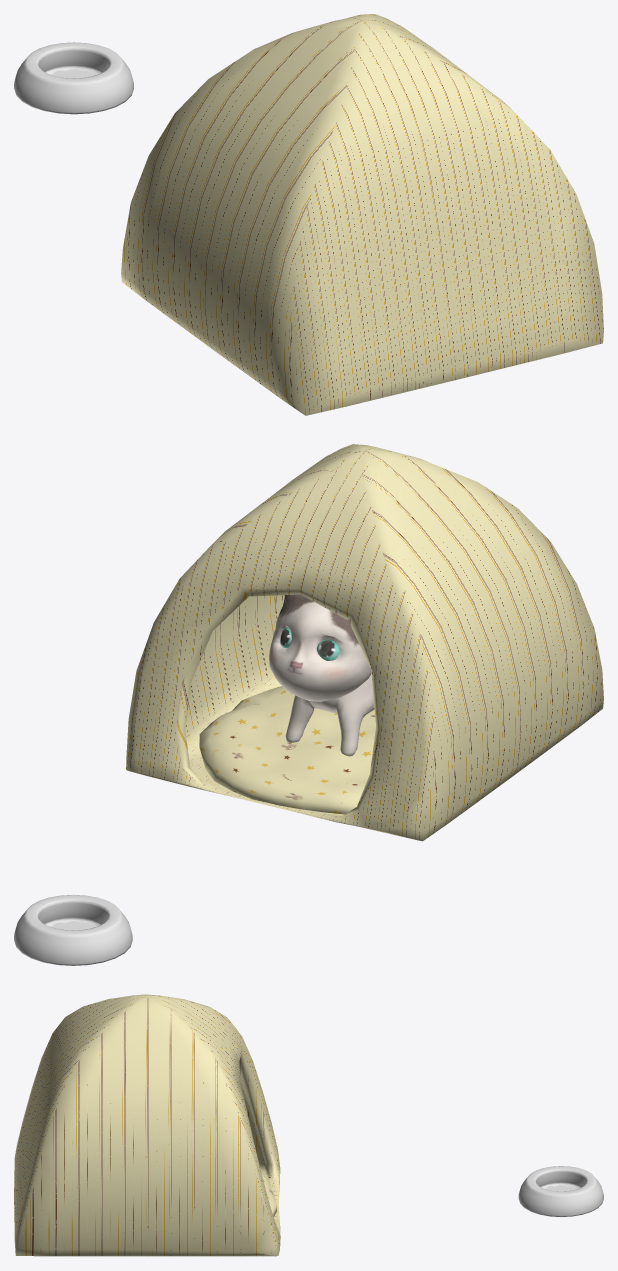
File: all.FBX
3 renders of one model, top to bottom at view 1: azimuth 30°, elevation 25°; view 2: azimuth 150°, elevation 25°; view 3: azimuth 270°, elevation 25°, orthographic. The views are drawn at different scales.
Visible parts, largest first — view 1: Box001, Cylinder001; view 2: Box001, Box002, Capsule001, Cylinder001; view 3: Box001, Cylinder001.
Boxes of the visible parts, x1,y1,x2,y2 form: Box001: (121,14,603,415); Cylinder001: (14,42,133,114); Box001: (125,444,603,841); Box002: (199,686,375,814); Capsule001: (269,594,374,756); Cylinder001: (14,894,132,965); Box001: (14,994,280,1256); Cylinder001: (518,1166,603,1217).
Bounding box in the file's own units: 55.01 × 49.52 × 125.
Materials: 2 (2 with a texture image).
